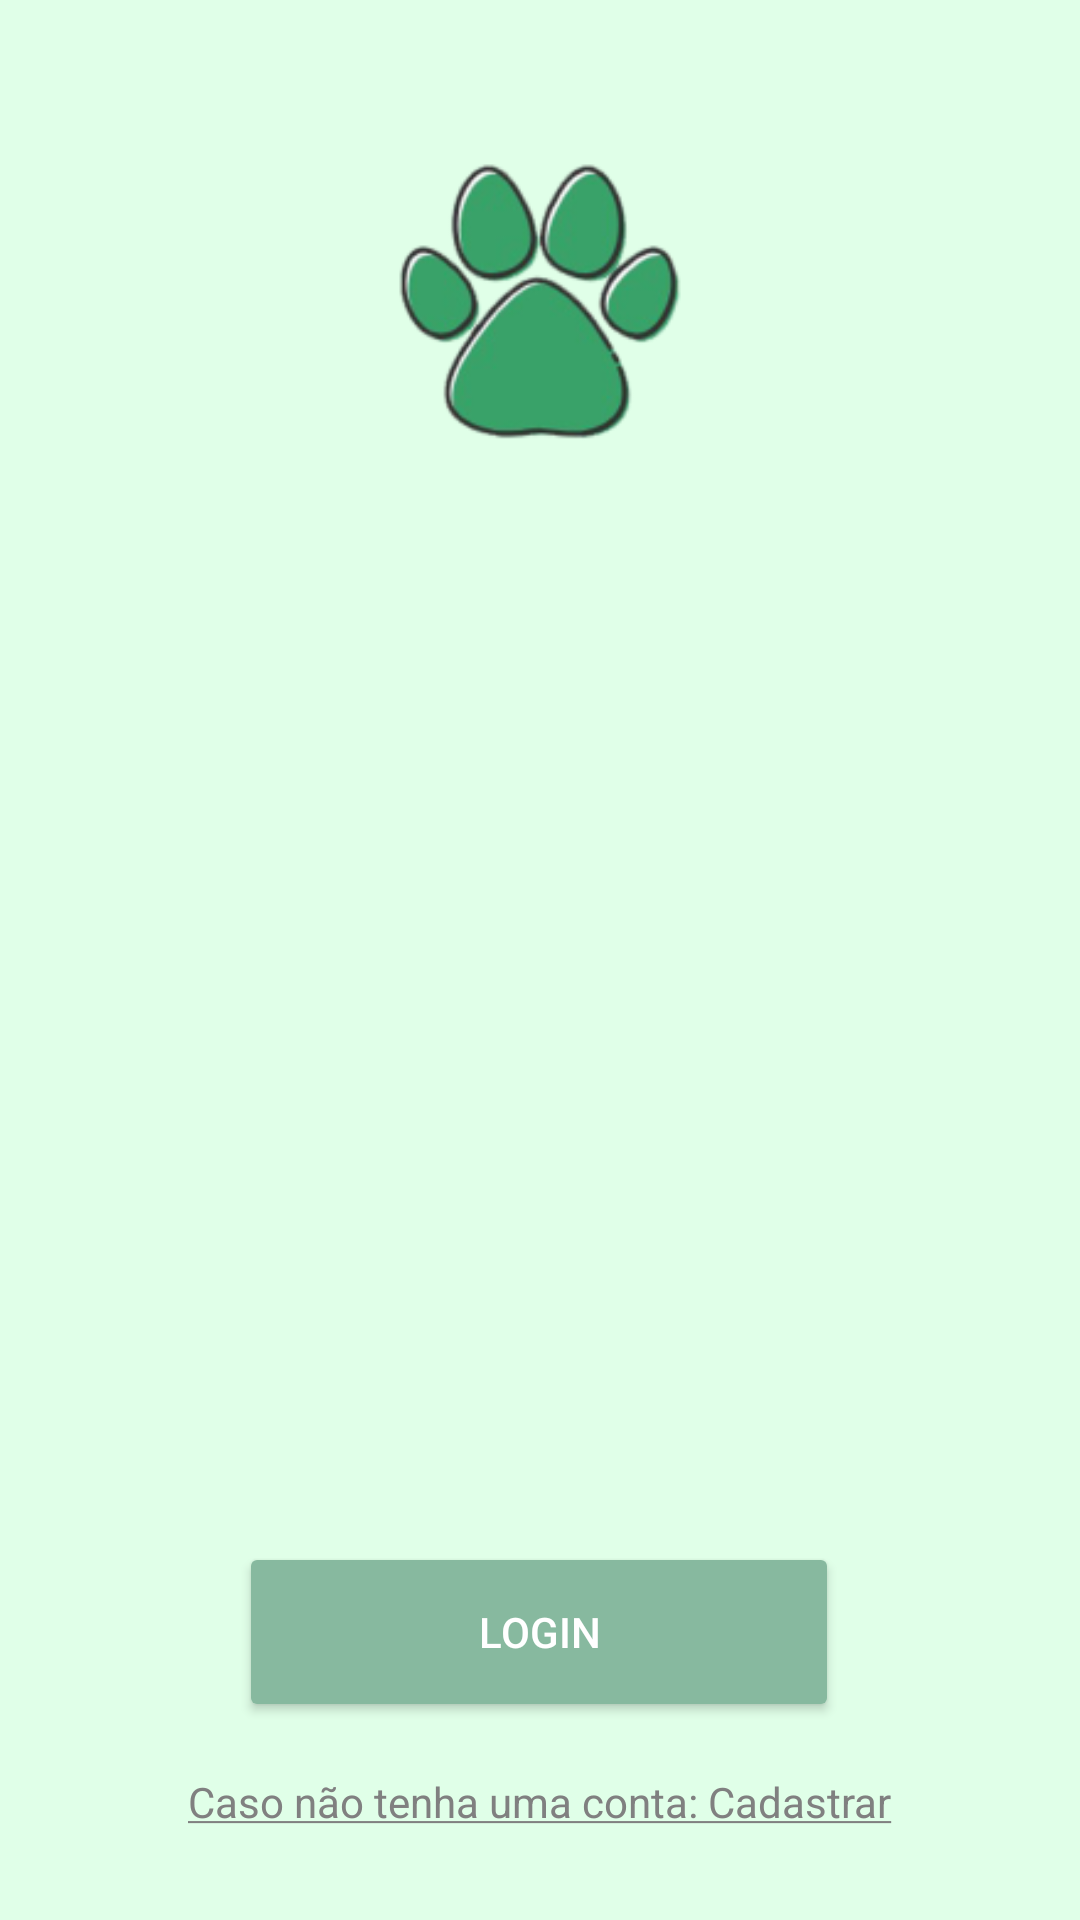

Point at icon controls on the screen. Image size 1080*1920, points as point (x, y).
Paw Icon: point (540, 301)
